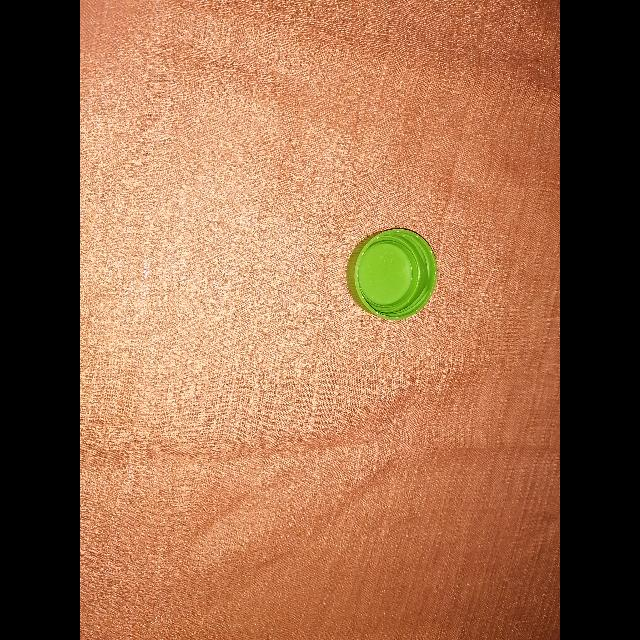plastic_bottle_cap: (346, 226, 440, 322)
